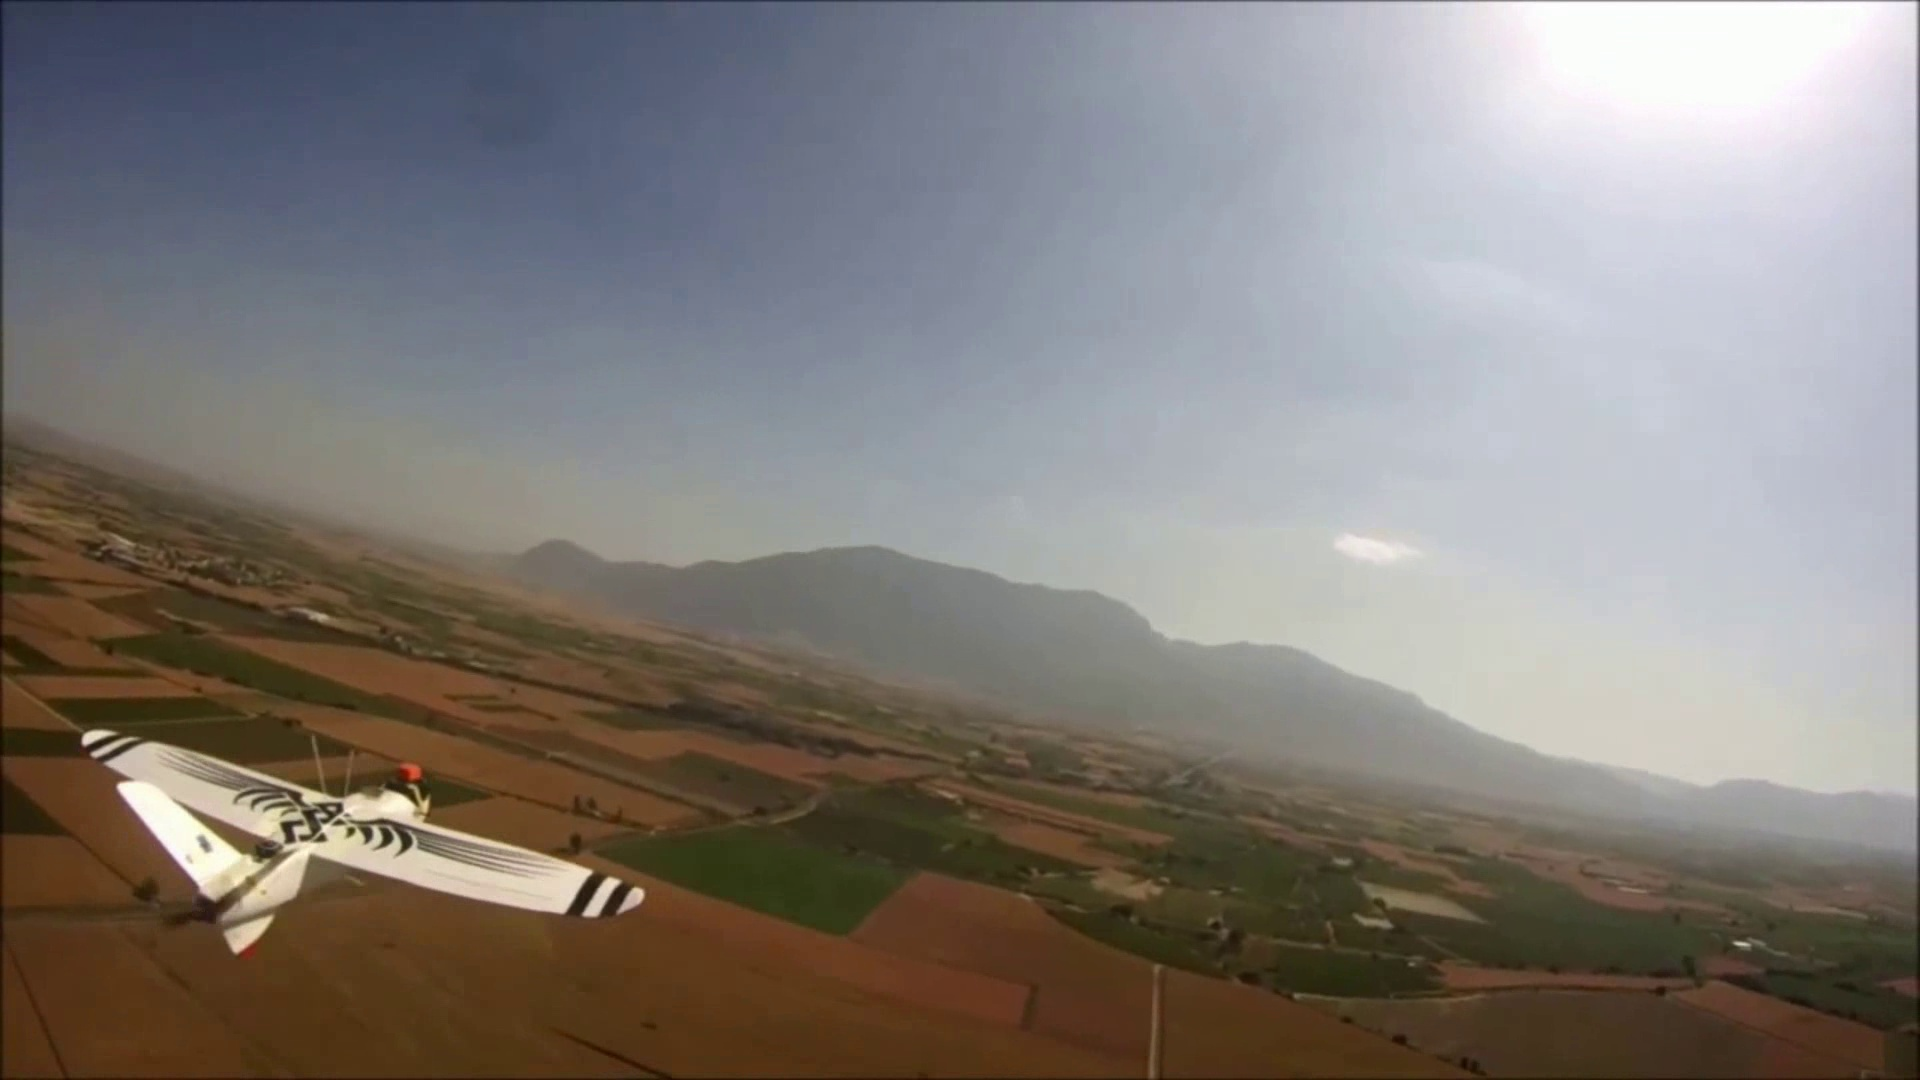airplane: (1, 673, 644, 957)
